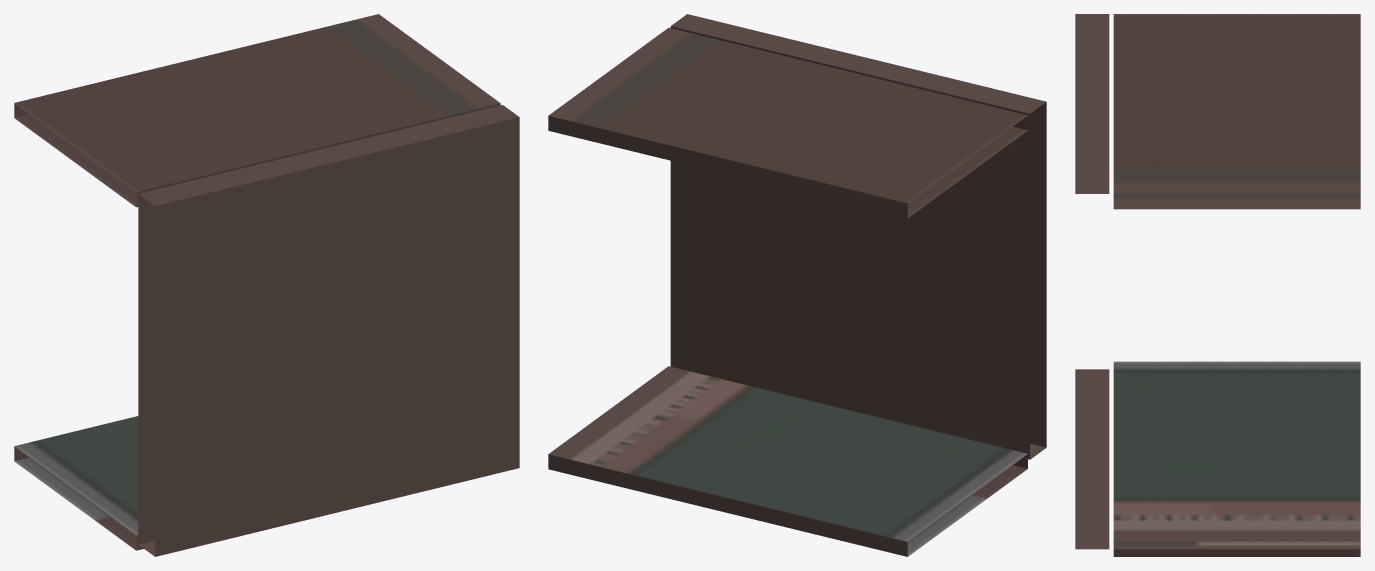
File: section-9.obj
The picture shows the model from 3 angles, left to right: view 1: azimuth 30°, elevation 25°; view 2: azimuth 150°, elevation 25°; view 3: azimuth 270°, elevation 25°; orthographic projection. The views are drawn at different scales.
Bounding box in the file's own units: 1 × 0.94 × 0.67.
